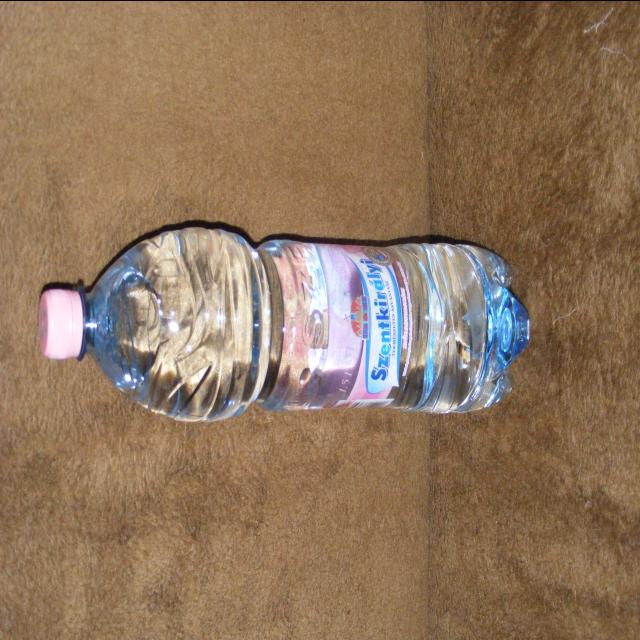bottle: (26, 174, 578, 451)
